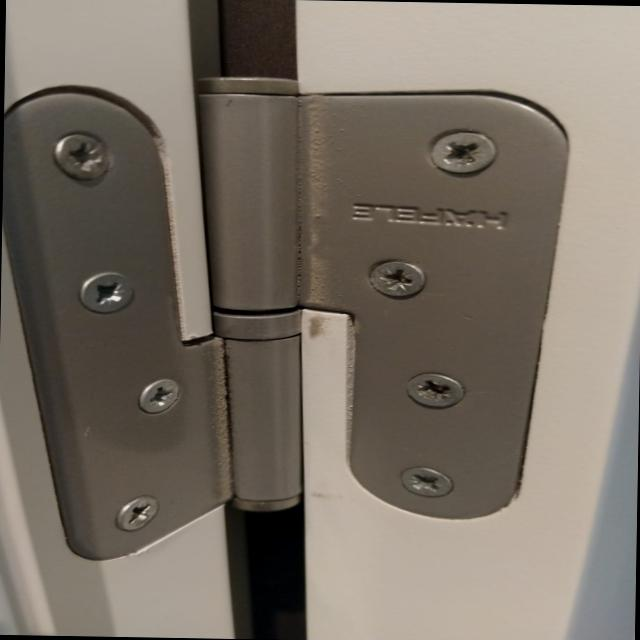Pozidriv: (47, 132, 120, 186), (68, 270, 144, 315), (392, 461, 458, 503), (124, 377, 192, 417), (430, 132, 492, 172), (106, 496, 166, 535), (362, 261, 429, 295), (404, 374, 466, 408)
